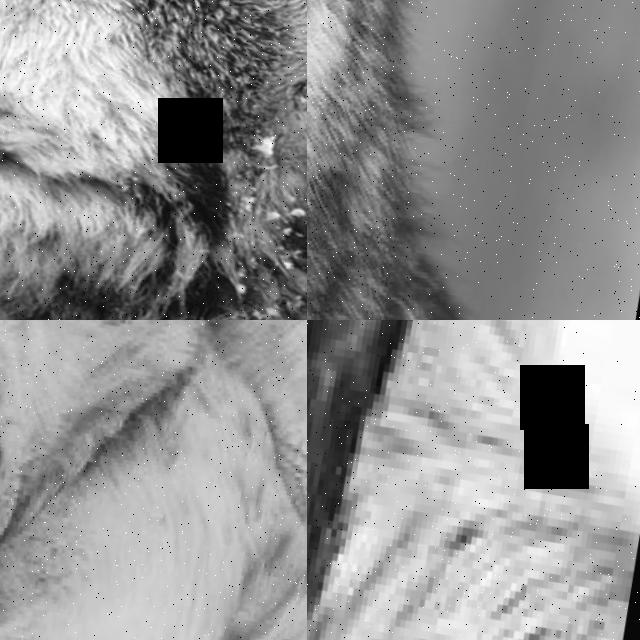dog: (307, 320, 640, 640)
wolf: (307, 0, 640, 320), (0, 0, 307, 320), (0, 320, 307, 640), (100, 320, 307, 572)
